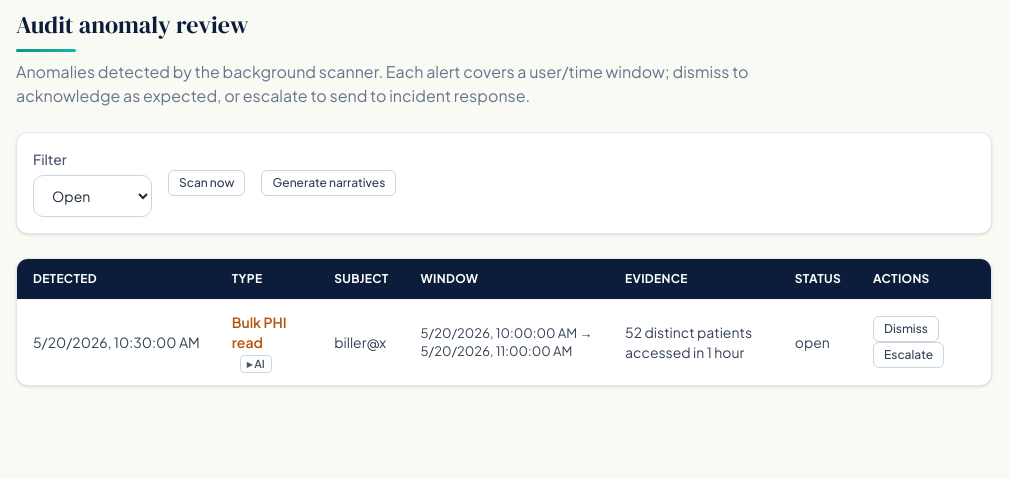
Test: AuditAnomalyReviewPage › expands the AI narrative when the toggle is clicked
Expected: the text "52 distinct patients accessed in 1 hour" is shown, [609,300,779,385]
Expected: the text "A user reviewed 52" is not shown
What coordinates should you click on to do the following:
click the button with aria-label "show narrative for alert 1"
I would click on:
 (256, 364)
Its box is [240,355,272,373].
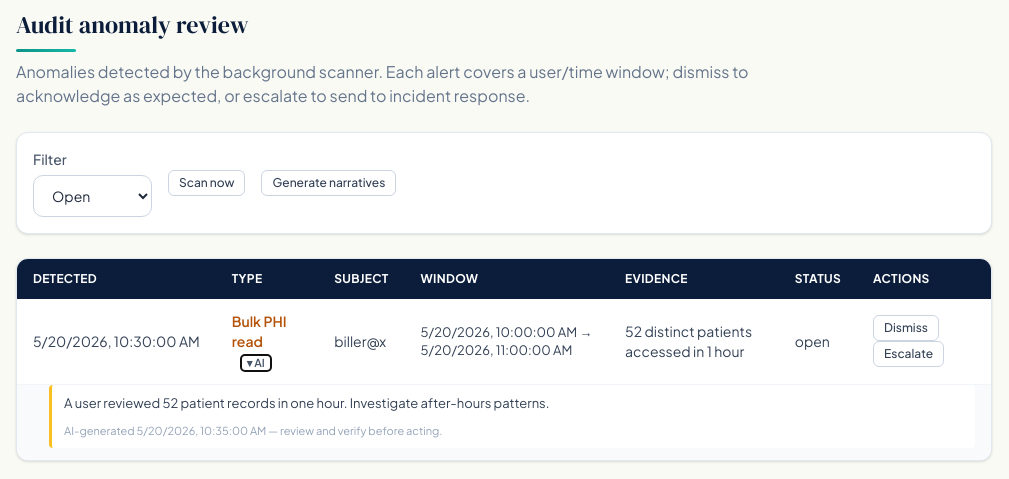
Now the text "A user reviewed 52" is shown, box [64,395,550,411]
// Click again to collapse
What coordinates should you click on to do the following:
click the button with aria-label "hide narrative for alert 1"
I would click on:
 (256, 363)
Its box is [240,354,272,372].
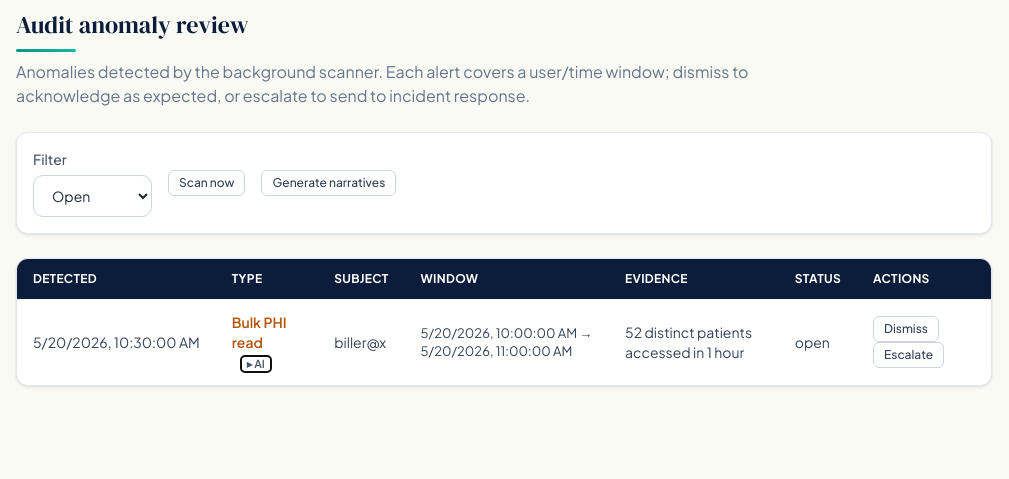
Now the text "A user reviewed 52" is gone
